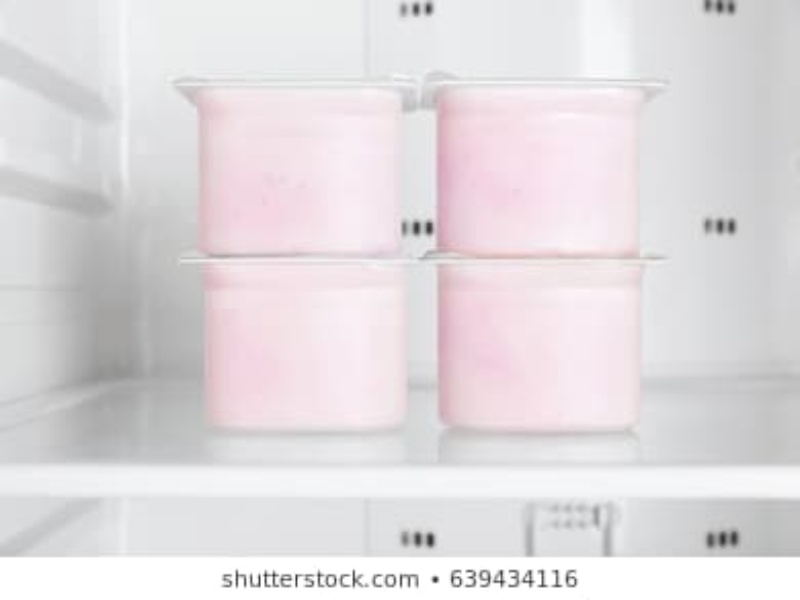yogurt-cup: (413, 68, 683, 257), (421, 249, 689, 434), (166, 252, 431, 439), (165, 66, 424, 254)
